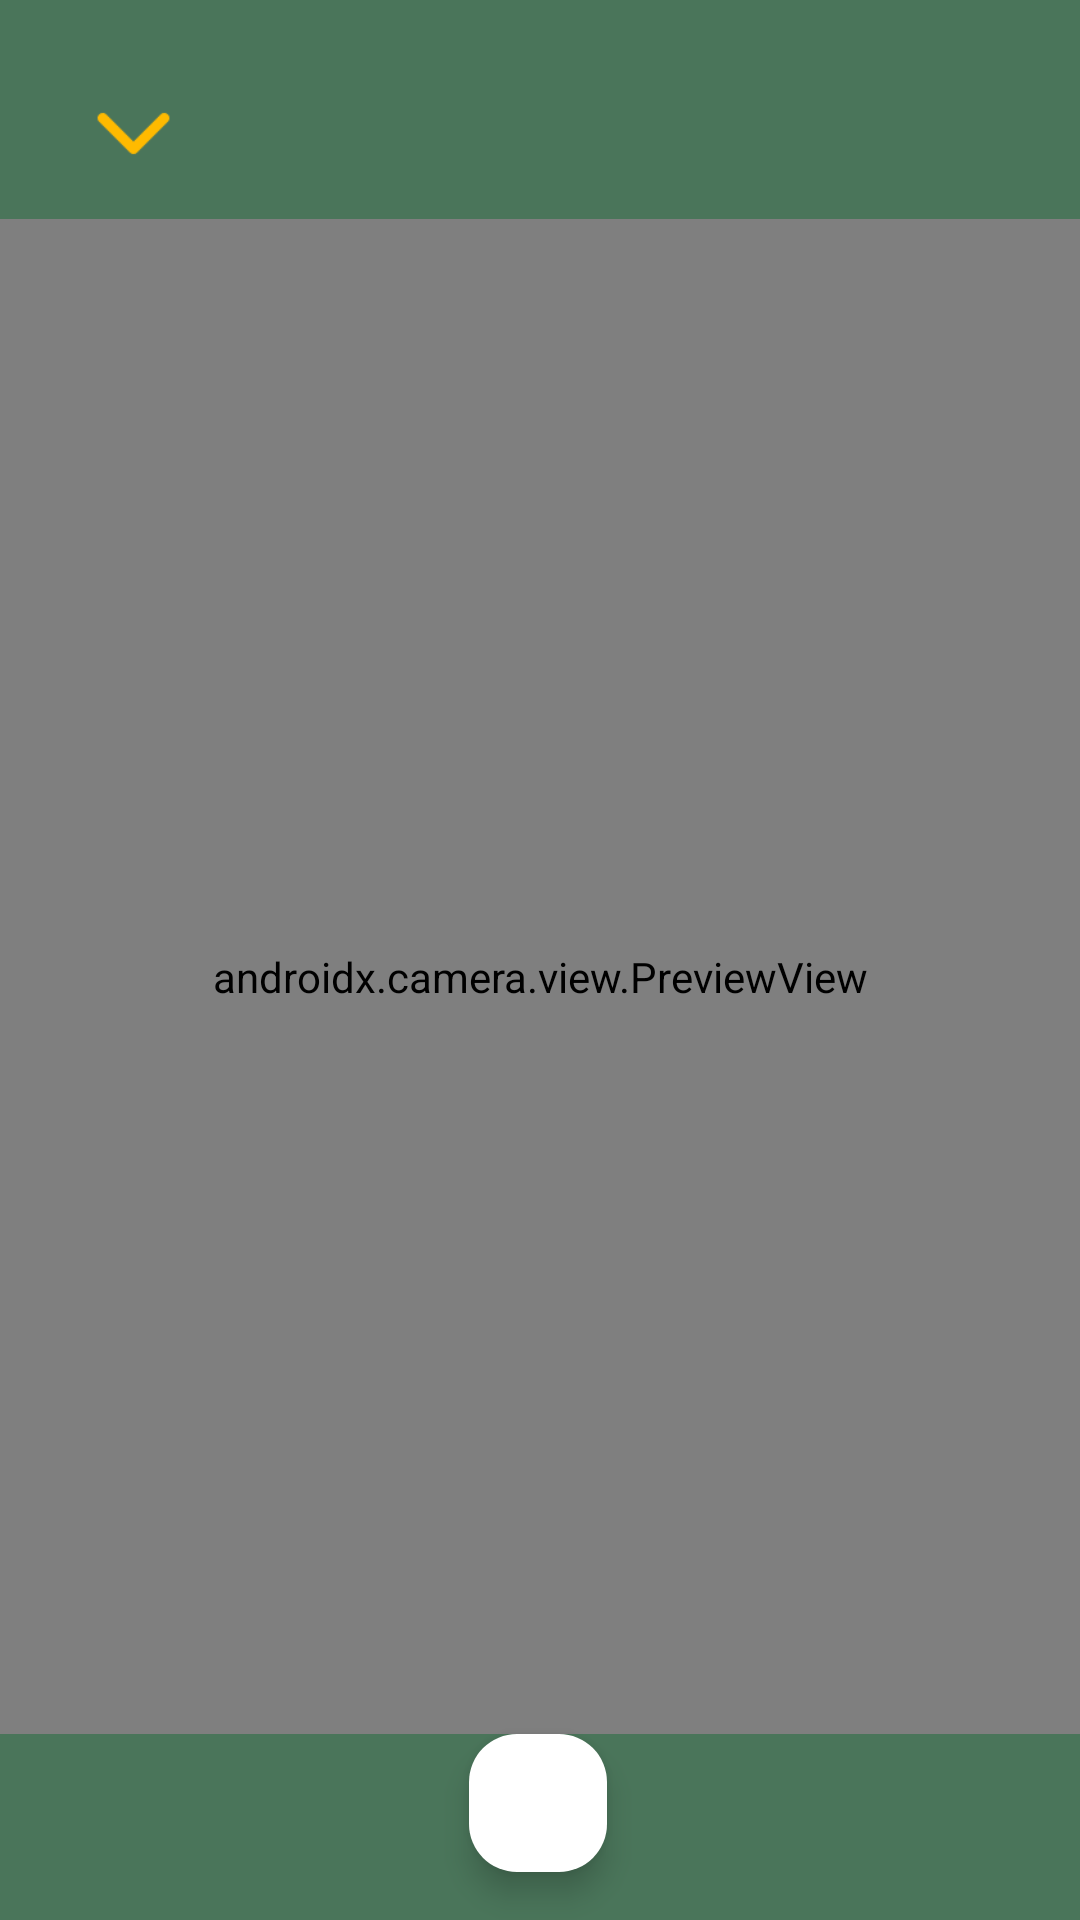

Where icons sit on this 1080*1920 app screen, as (x1, y1, x2, y2):
Close camera: (97, 113, 170, 154)
